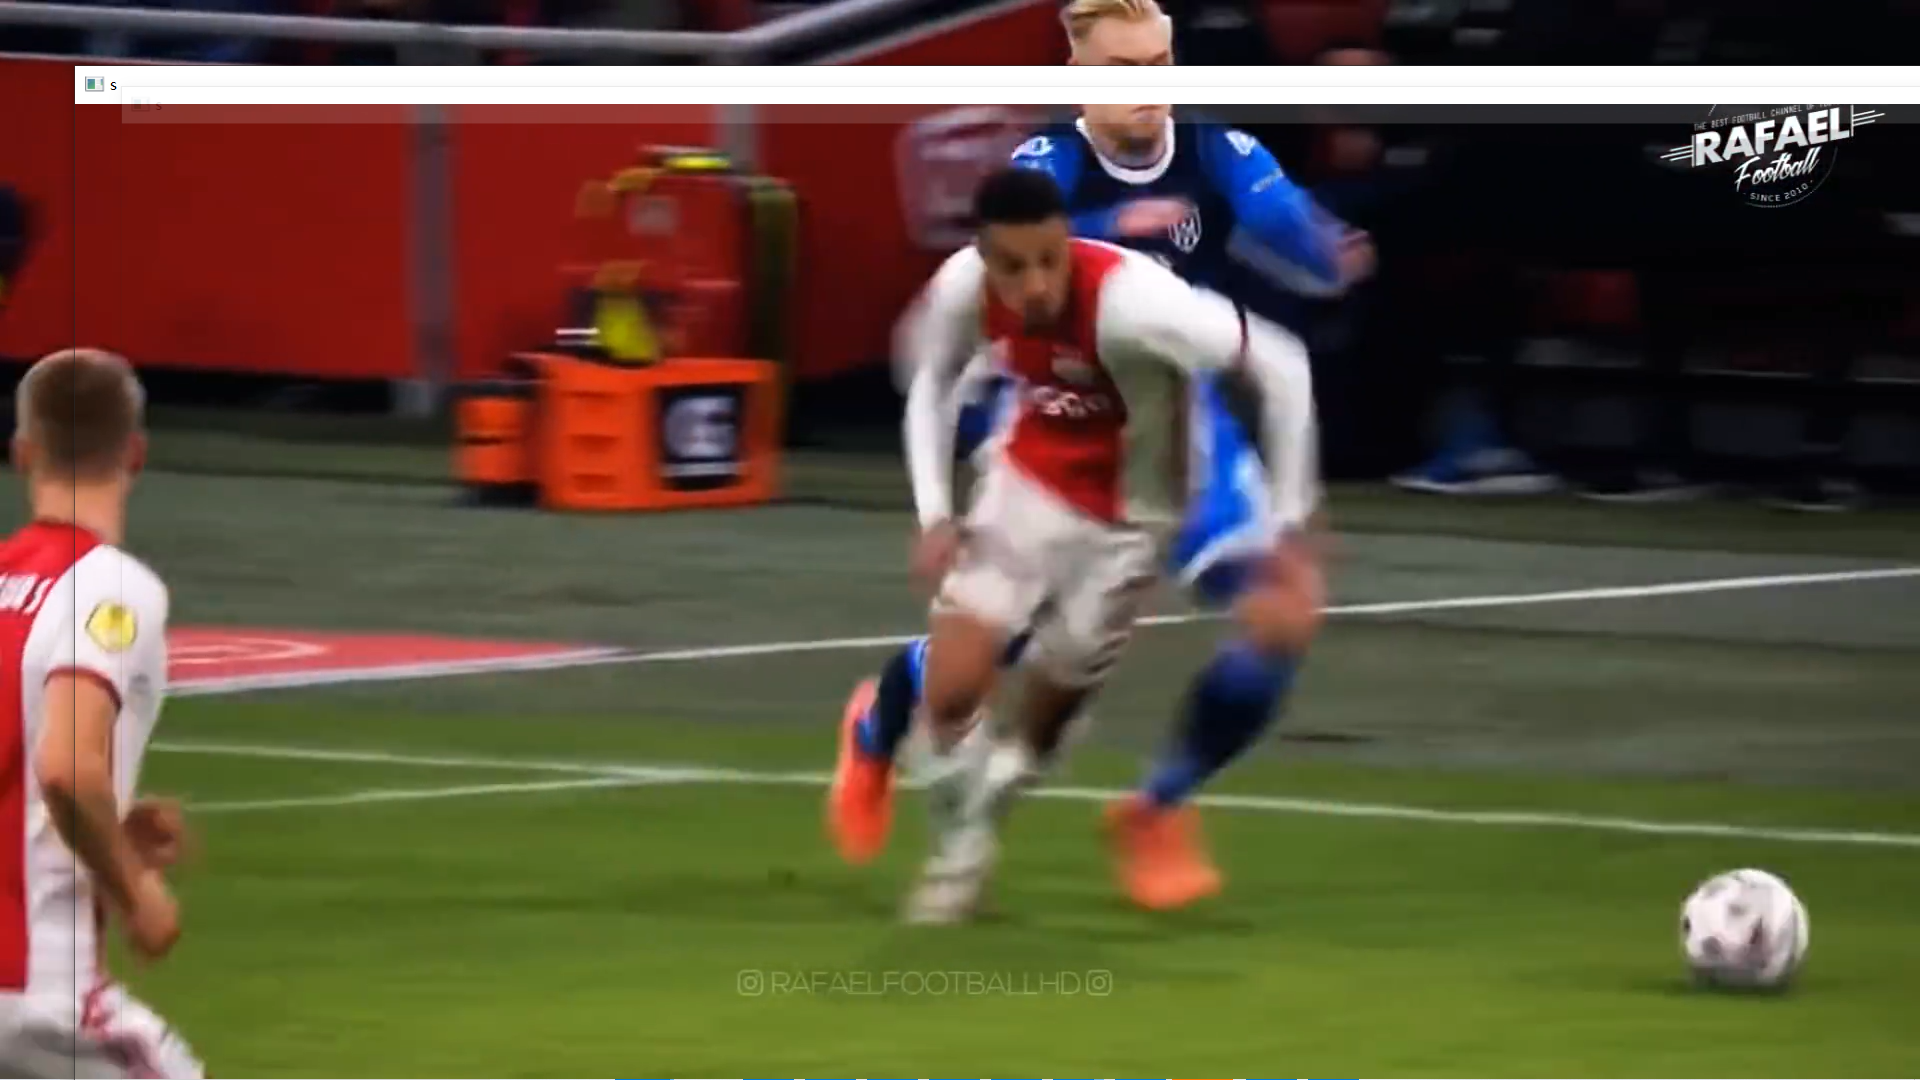ft: (1668, 864, 1822, 1005)
